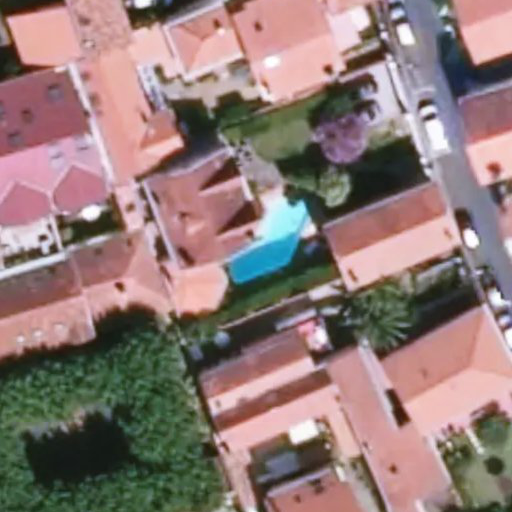pool: (202, 222, 312, 256)
